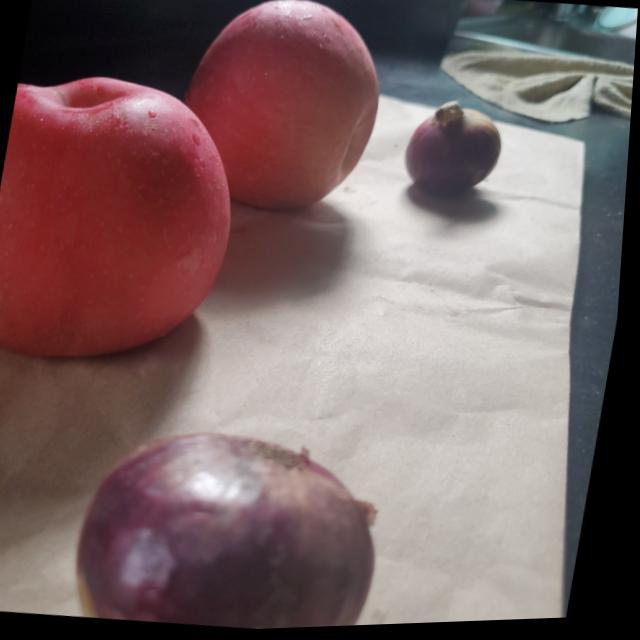apple: (0, 63, 257, 377), (170, 0, 397, 217)
onion: (74, 414, 402, 637), (401, 101, 508, 206)
